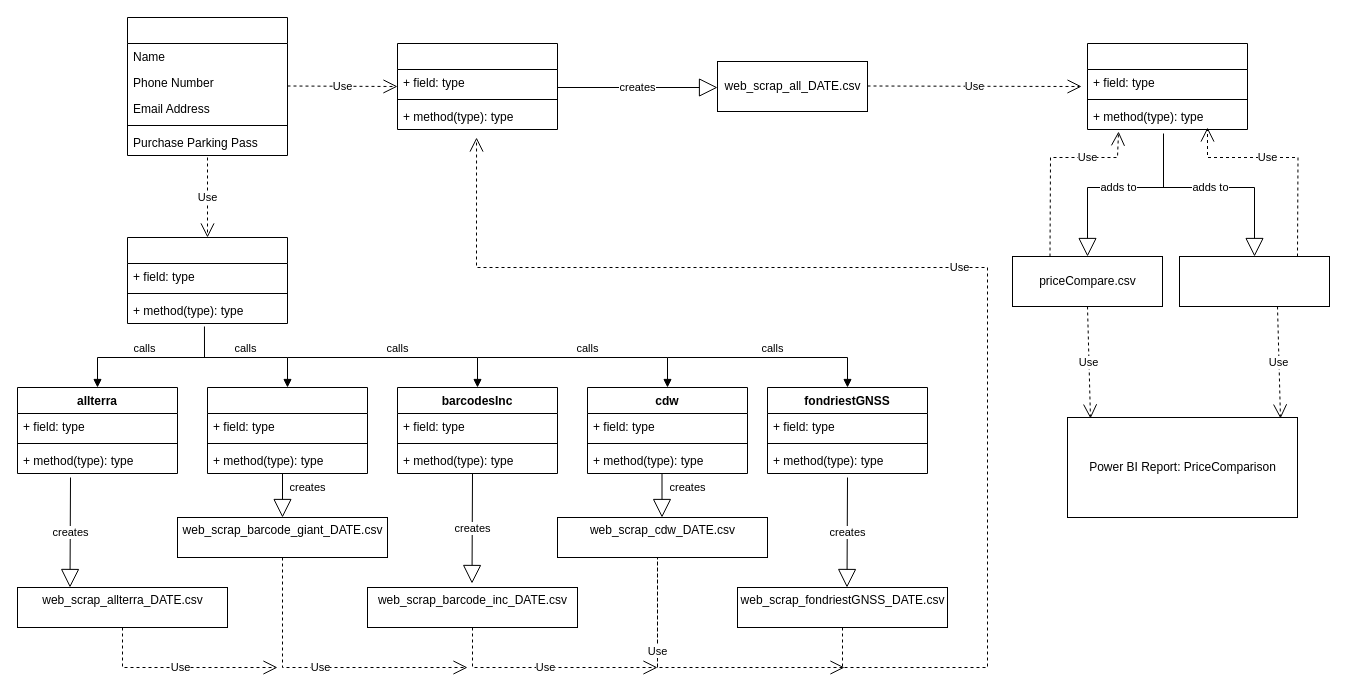
This 1347x699 diagram has some shape labels left out. The shapes that lost their labels are listed below. From the top down, each one's box as (x1, y1, x2, y2) in pixels, then its label:
(126, 16, 288, 156): webscrape
(396, 42, 558, 130): createOneFile
(1086, 42, 1248, 130): priceComparison
(126, 236, 288, 324): scrape
(1178, 256, 1330, 306): deviceInfo.csv
(206, 386, 368, 474): barcodeGiant
